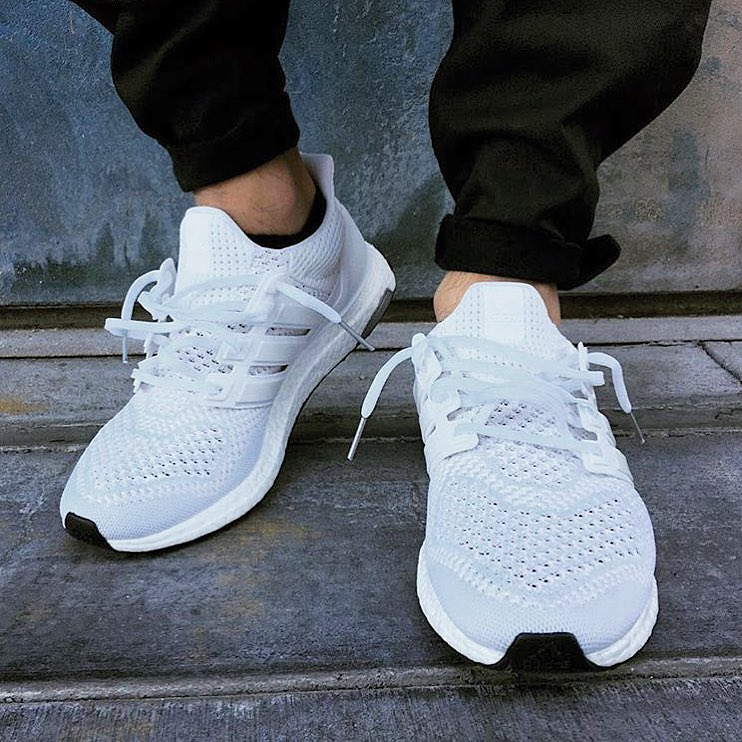sneaker: (27, 106, 406, 594), (340, 227, 676, 691)
